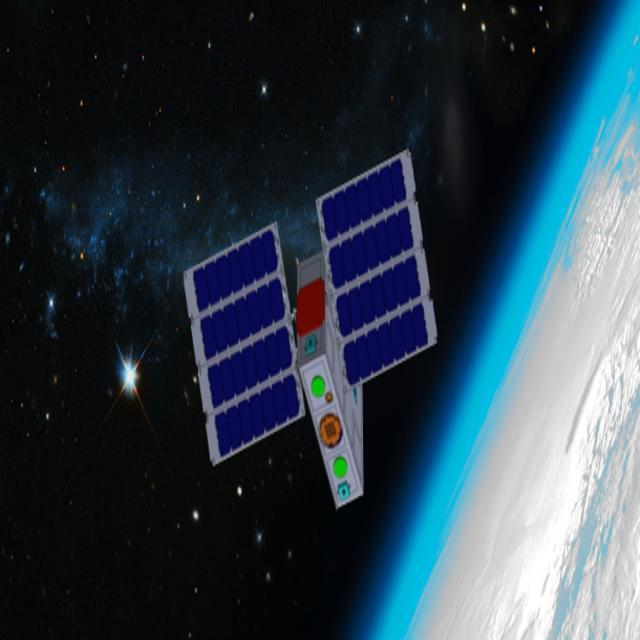sat: (174, 123, 449, 524)
